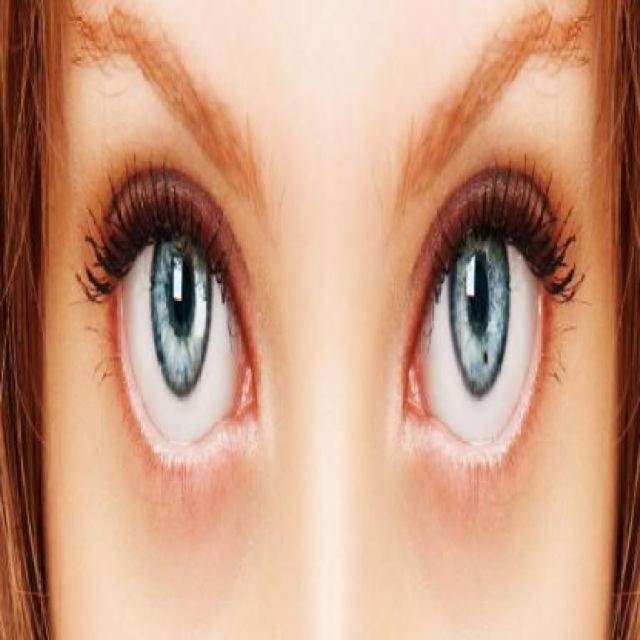awake: (116, 233, 253, 465), (406, 222, 540, 458)
